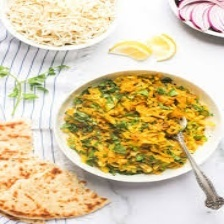sabzi: (58, 72, 211, 179)
